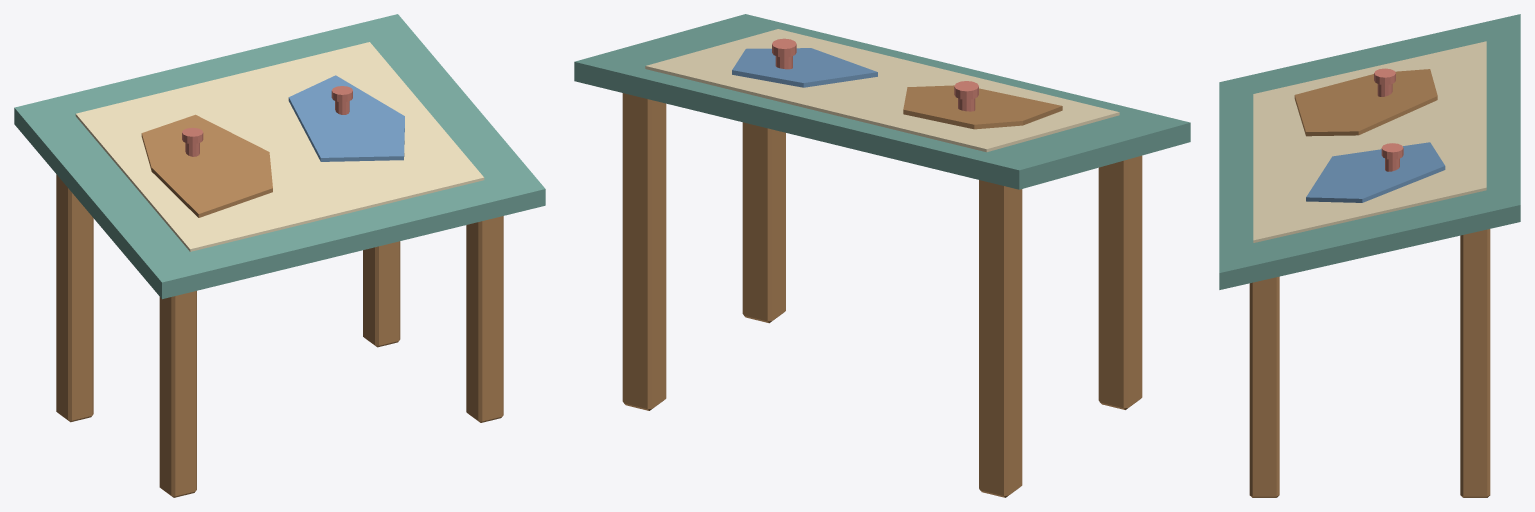
3 views of the same model, side by side, from view 1: azimuth 30°, elevation 25°; view 2: azimuth 150°, elevation 25°; view 3: azimuth 270°, elevation 25° (orthographic). The views are drawn at different scales.
Visible parts, largest first — view 1: navigation-map-stand-01; view 2: navigation-map-stand-01; view 3: navigation-map-stand-01.
Part boxes in pixels (bbox=[...]): navigation-map-stand-01: bbox=[14, 14, 545, 497]; navigation-map-stand-01: bbox=[574, 14, 1190, 497]; navigation-map-stand-01: bbox=[1219, 14, 1520, 497].
Size of the model in its own units: 1.2 by 0.9 by 0.8.
